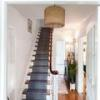stairs: (15, 23, 52, 100)
